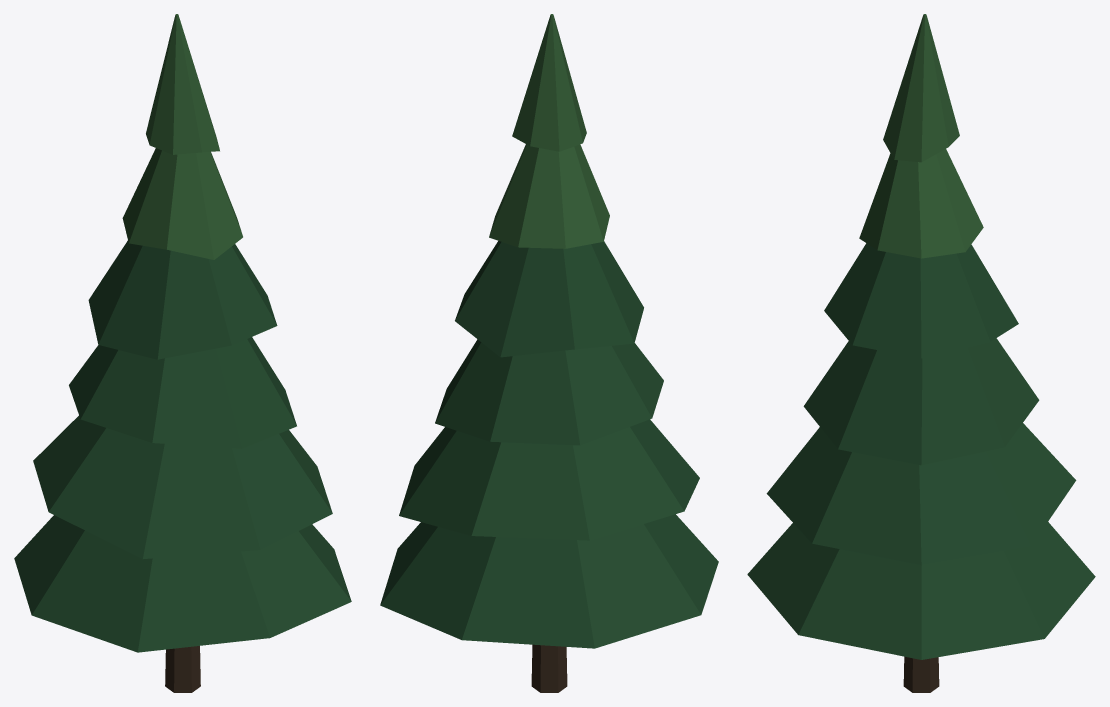
Rendered from UM_Fichte_Mittel.fbx.
3 views of the same model, side by side, from view 1: azimuth 30°, elevation 25°; view 2: azimuth 150°, elevation 25°; view 3: azimuth 270°, elevation 25° (orthographic).
Visible parts, largest first — view 1: UM_Fichte_Mittel; view 2: UM_Fichte_Mittel; view 3: UM_Fichte_Mittel.
Boxes of the visible parts, box(x1,y1,x2,y2) form: UM_Fichte_Mittel: box(14, 14, 351, 692); UM_Fichte_Mittel: box(380, 14, 718, 692); UM_Fichte_Mittel: box(747, 14, 1095, 692).
Size of the model in its own units: 4.4 by 9.33 by 4.4.
